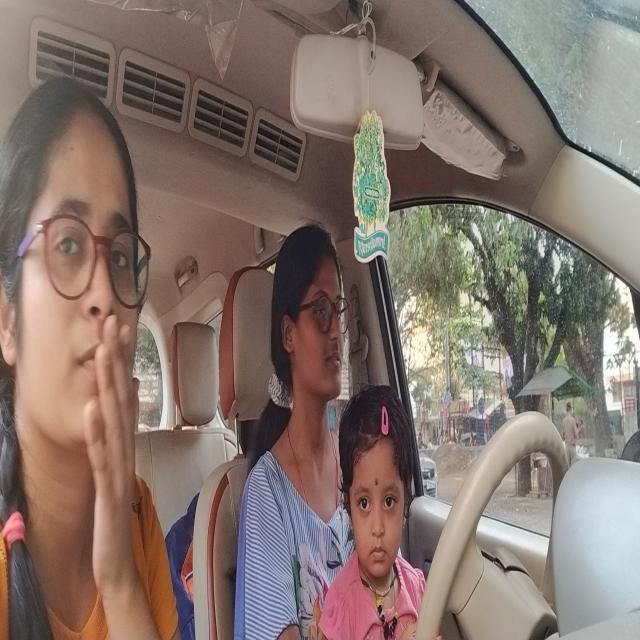child: (337, 381, 419, 588)
person: (0, 71, 160, 502), (270, 203, 352, 421)
